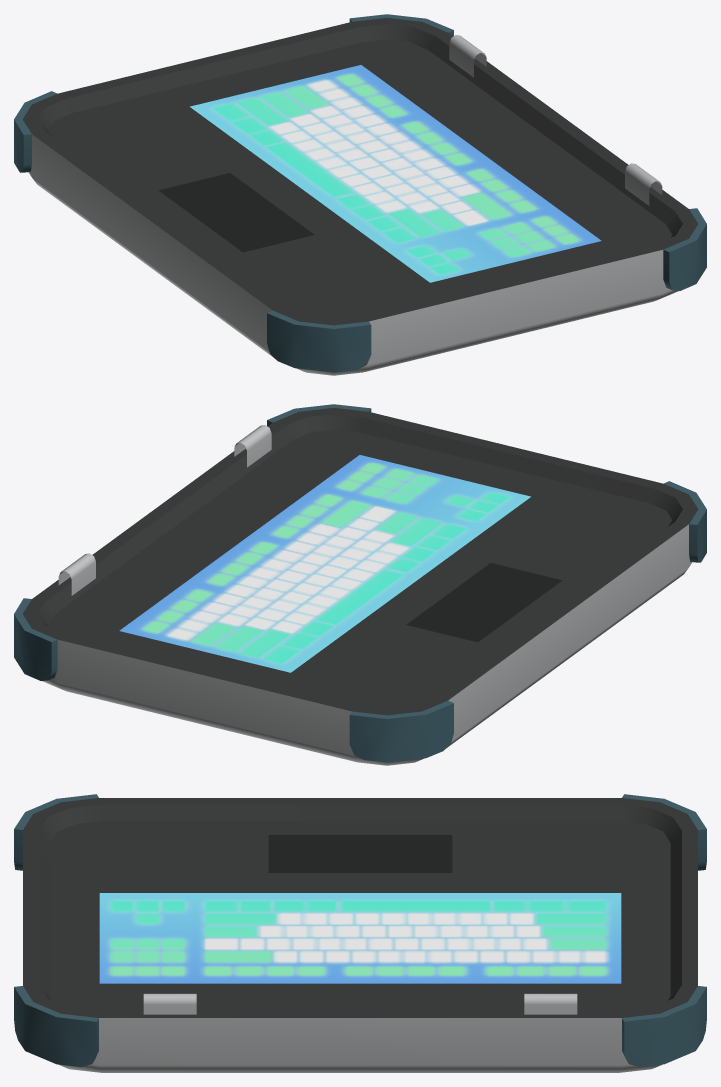
The model's file is Laptop_004.fbx.
3 renders of one model, top to bottom at view 1: azimuth 30°, elevation 25°; view 2: azimuth 150°, elevation 25°; view 3: azimuth 270°, elevation 25°, orthographic. The views are drawn at different scales.
Parts seen in each view (by area): view 1: Laptop_004; view 2: Laptop_004; view 3: Laptop_004.
Boxes of the visible parts, x1,y1,x2,y2 form: Laptop_004: (14,14,706,375); Laptop_004: (14,404,706,765); Laptop_004: (14,794,706,1072).
Bounding box in the file's own units: 32.23 × 41.46 × 5.2.
